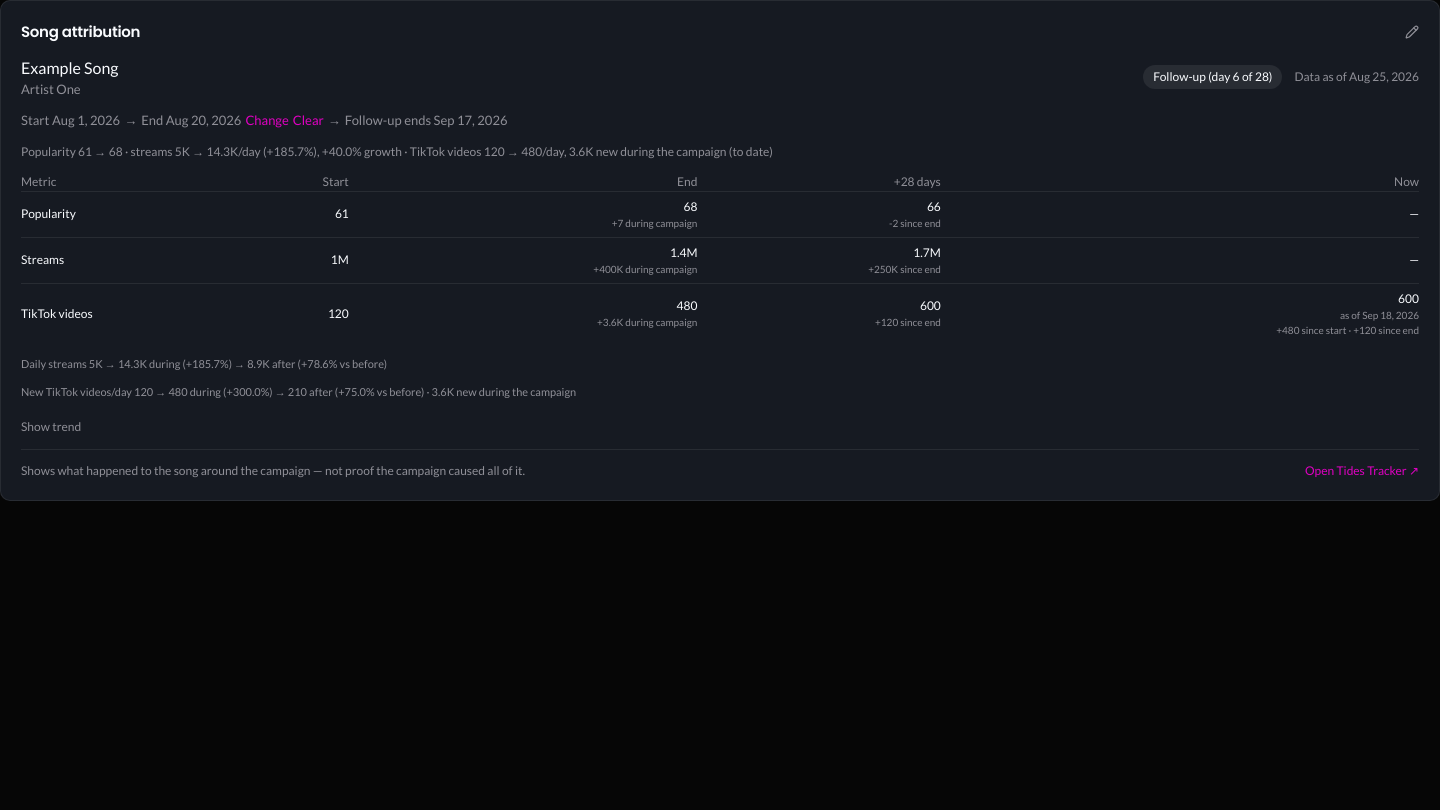
Scenario: <PopScoreCard /> attribution › keeps the trend control wired and summarizes the rendered chart for assistive tech
The width and height of the screenshot is (1440, 810).
Click the button "Show trend".
click(51, 426)  # box [21, 418, 81, 436]
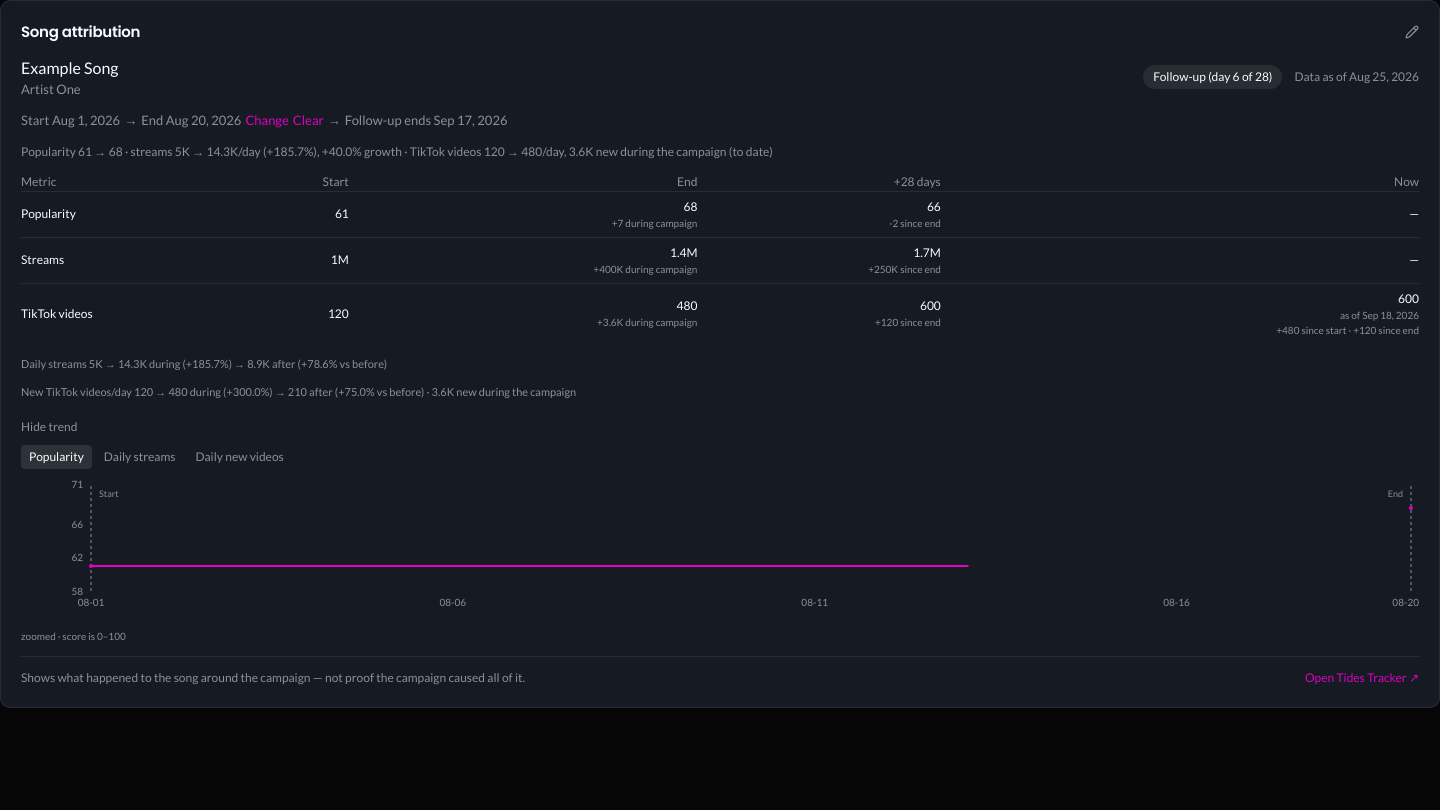
Result: the button named "Show trend" is expanded at [21, 418, 77, 436]
Result: the picture named "Popularity trend chart for Example Song" is shown at [21, 476, 1419, 620]
